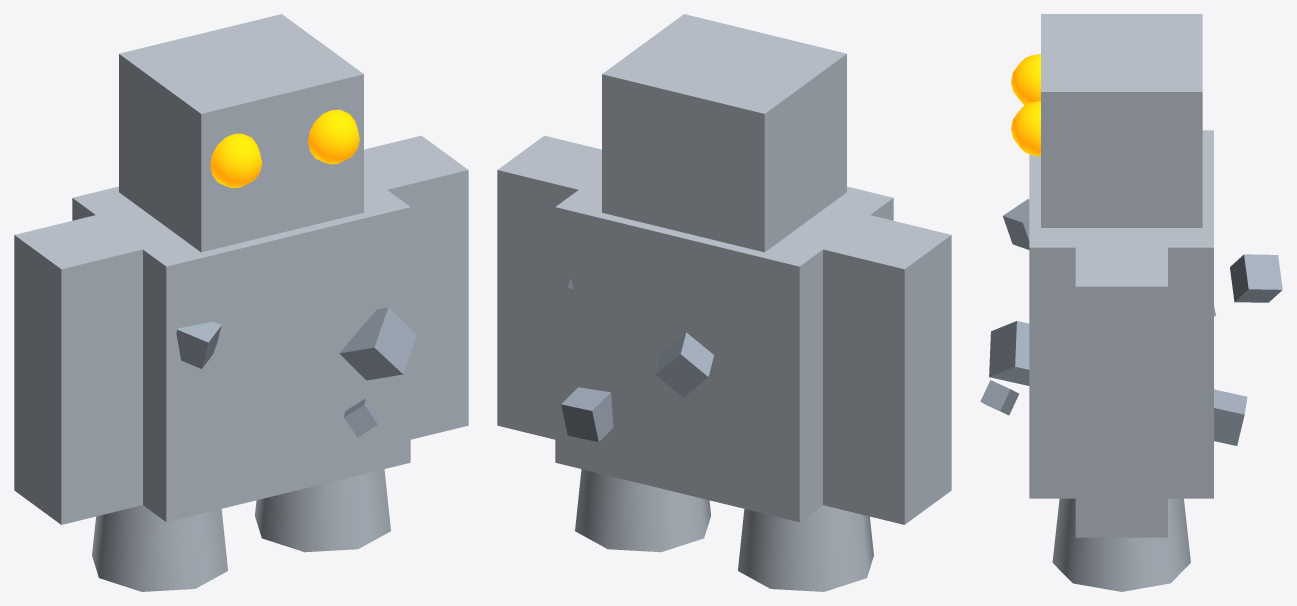
The model's file is golem.glb.
The picture shows the model from 3 angles, left to right: view 1: azimuth 30°, elevation 25°; view 2: azimuth 150°, elevation 25°; view 3: azimuth 270°, elevation 25°; orthographic projection.
Size of the model in its own units: 1 by 1.13 by 0.6553.
